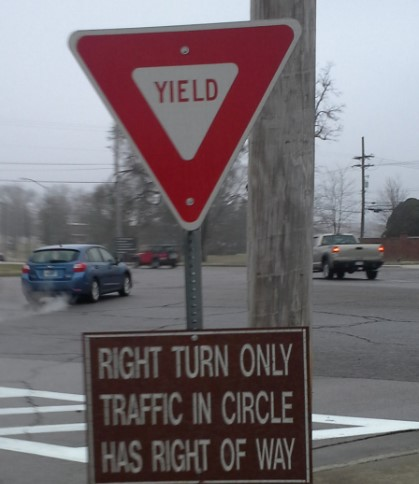Yeild: (63, 14, 305, 232)
